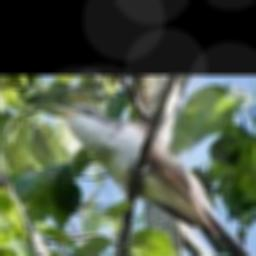Cuckoo: (52, 103, 256, 256)
